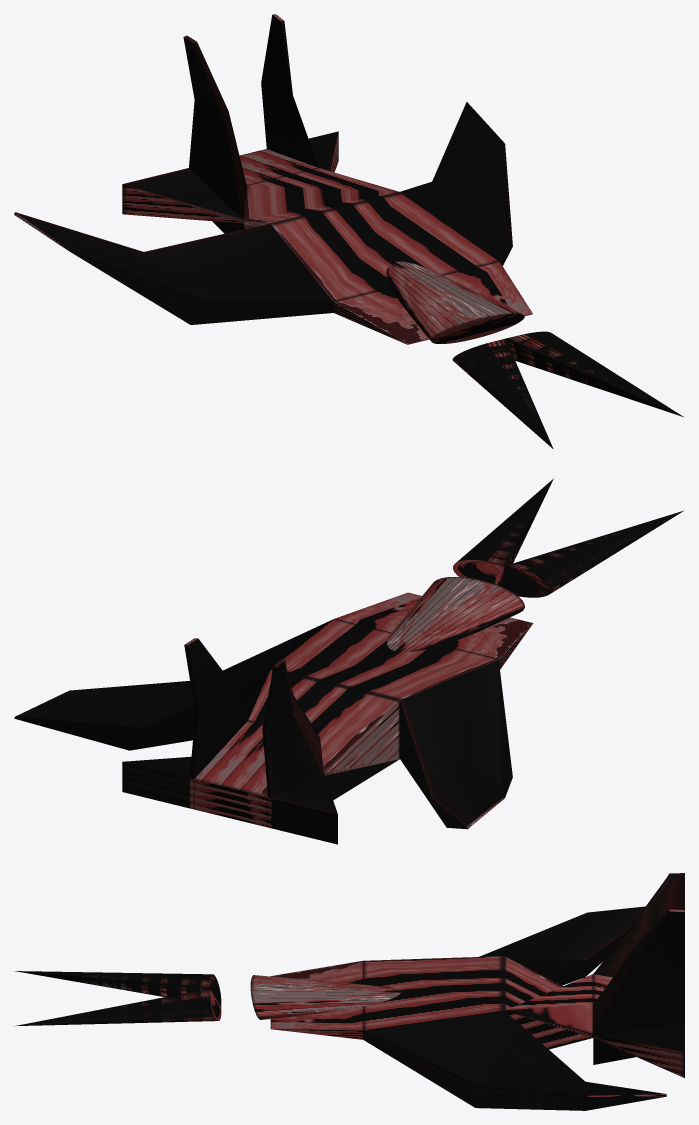
The model's file is enemy41-F.obj.
3 renders of one model, top to bottom at view 1: azimuth 30°, elevation 25°; view 2: azimuth 150°, elevation 25°; view 3: azimuth 270°, elevation 25°, orthographic. The views are drawn at different scales.
Visible parts, largest first — view 1: 円錐.001; view 2: 円錐.001; view 3: 円錐.001.
Part boxes in pixels (x1=…): 円錐.001: x1=14, y1=14, x2=683, y2=448; 円錐.001: x1=14, y1=478, x2=684, y2=844; 円錐.001: x1=14, y1=873, x2=684, y2=1110.
Size of the model in its own units: 3.9 by 1.51 by 5.79.
1 material, 1 textured.
